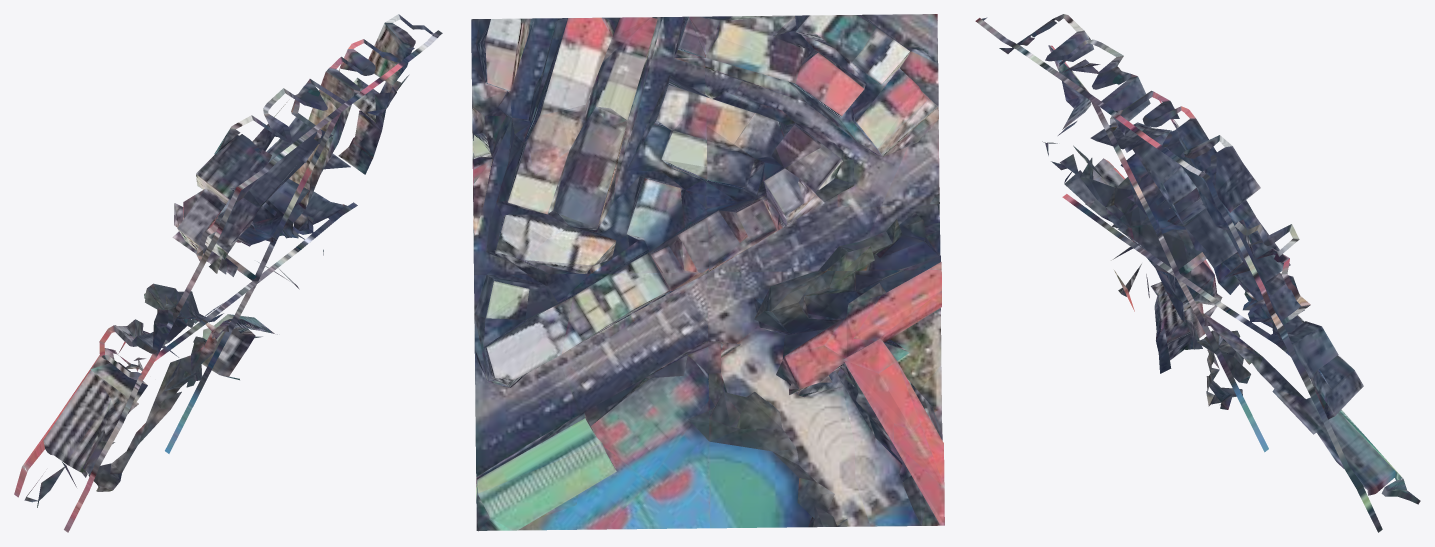
3 renders of one model, left to right at view 1: azimuth 30°, elevation 25°; view 2: azimuth 150°, elevation 25°; view 3: azimuth 270°, elevation 25°, orthographic. The views are drawn at different scales.
Bounding box in the file's own units: 162 × 147 × 140.
1 material, 1 textured.
